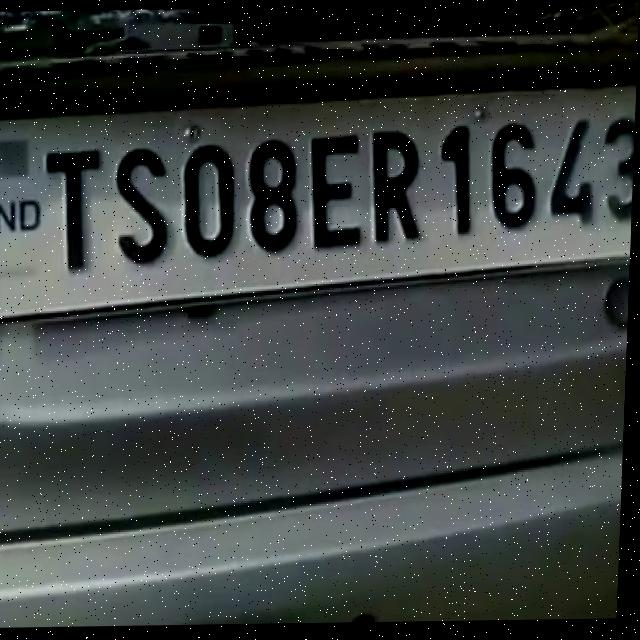plate: (0, 79, 637, 328)
